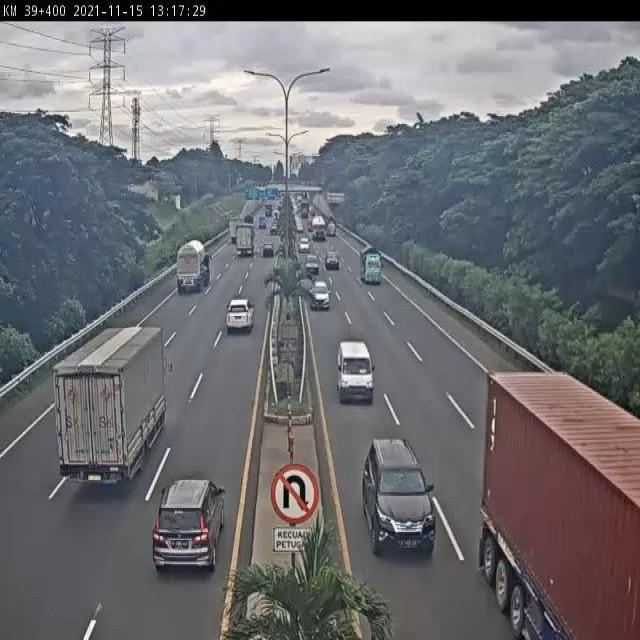bus-s-: (334, 338, 375, 402)
car: (357, 428, 441, 565), (152, 480, 227, 576), (224, 296, 258, 340), (308, 279, 332, 308), (303, 252, 321, 276), (324, 248, 341, 269)
truck-l-: (175, 239, 213, 292)
truck-m-: (57, 324, 170, 481), (356, 246, 386, 286)
truck-xl-: (475, 362, 640, 640)
